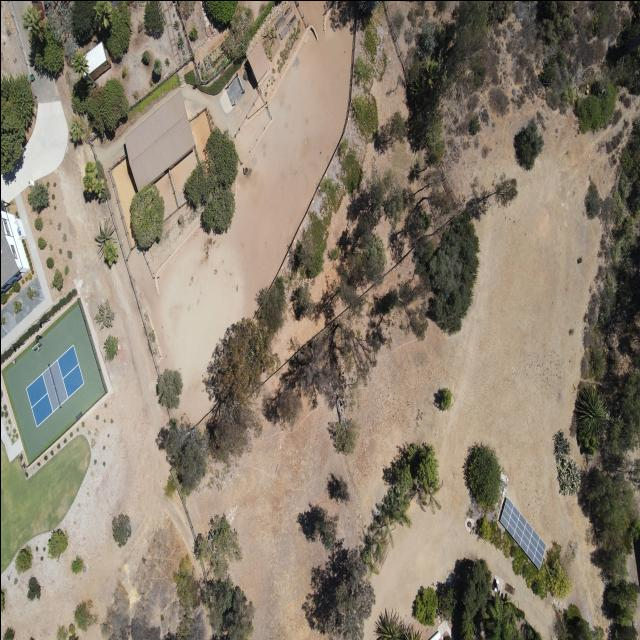solar-panels: (490, 496, 555, 570)
